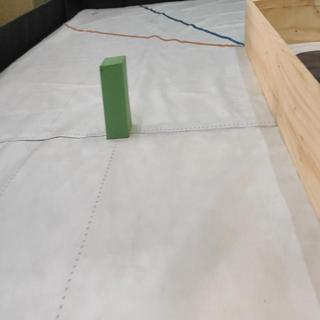greenbox: (100, 57, 130, 140)
